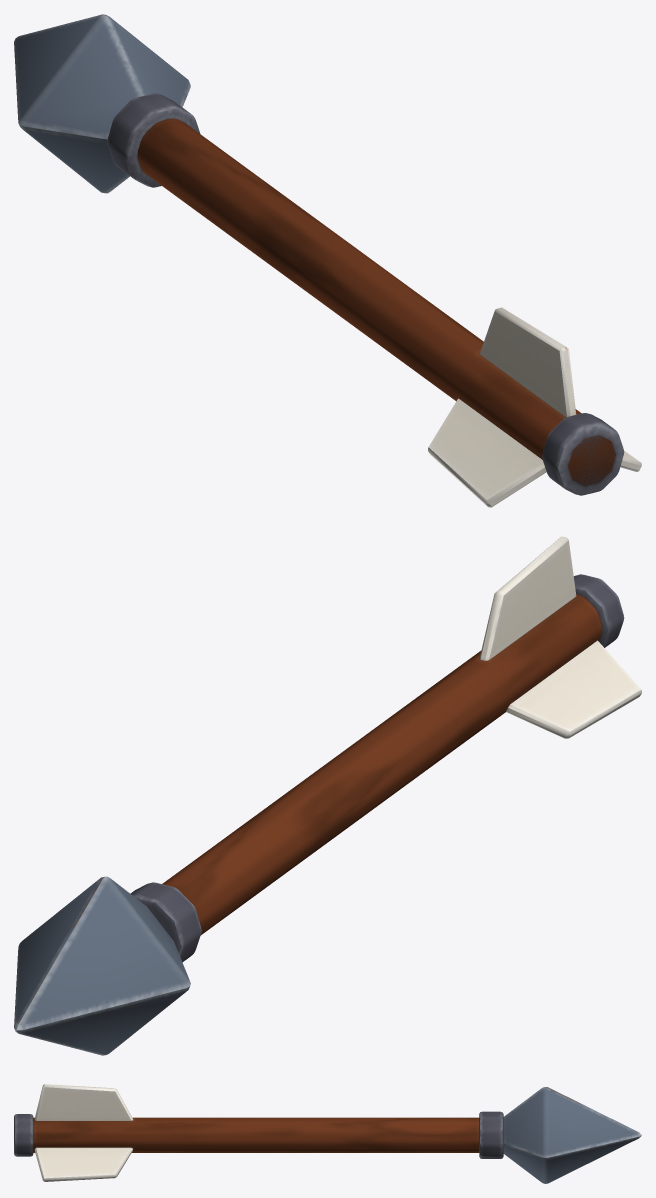
Rendered from bolt.glb.
3 views of the same model, one above another, from view 1: azimuth 30°, elevation 25°; view 2: azimuth 150°, elevation 25°; view 3: azimuth 270°, elevation 25° (orthographic). The views are drawn at different scales.
Parts seen in each view (by area): view 1: bolt; view 2: bolt; view 3: bolt.
Part boxes in pixels (x1,y1,x2,y2): bolt: (14,14,641,507); bolt: (14,536,641,1055); bolt: (14,1084,641,1183).
Bounding box in the file's own units: 0.4392 × 0.4492 × 2.58.
4 materials, 4 textured.
